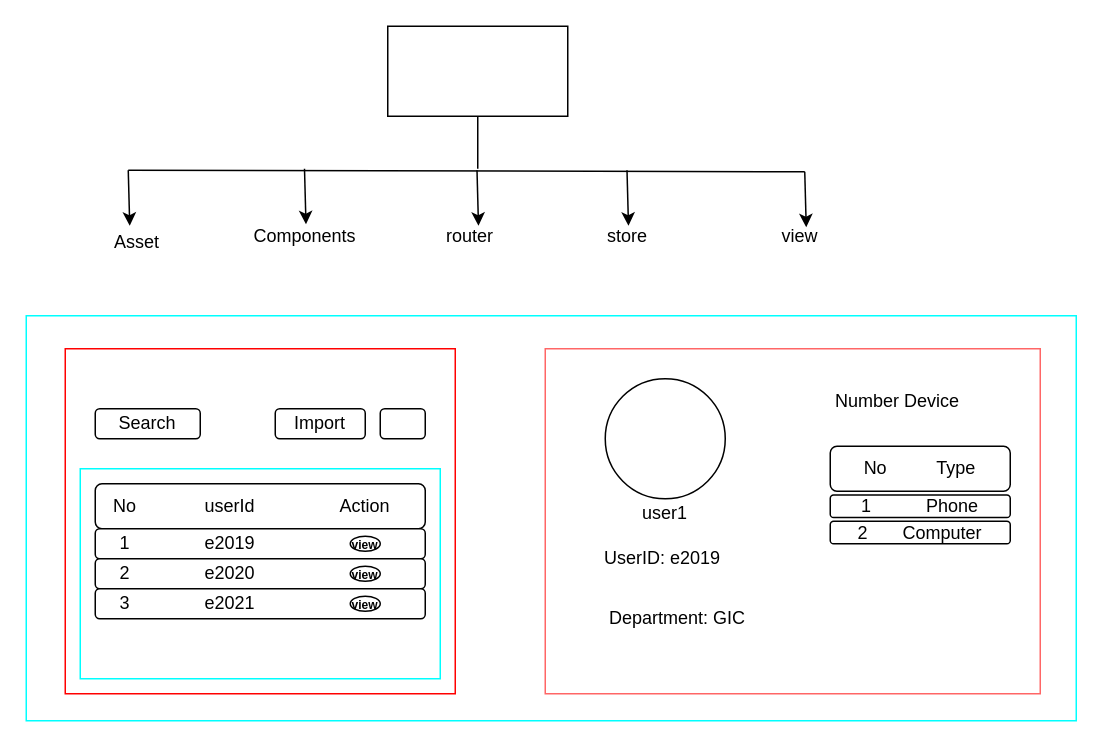
This 1103x747 diagram has some shape labels left out. Each missing label, with the centre of its shape:
"Add" goes at pixel 402 423.
"Img" goes at pixel 664 438.
"Src" goes at pixel 477 70.
